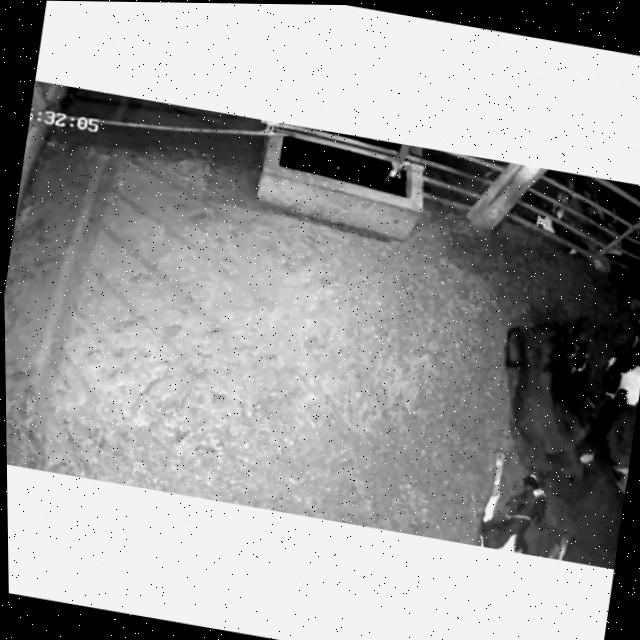lay: (487, 288, 621, 490), (463, 439, 591, 563), (573, 275, 640, 504)
